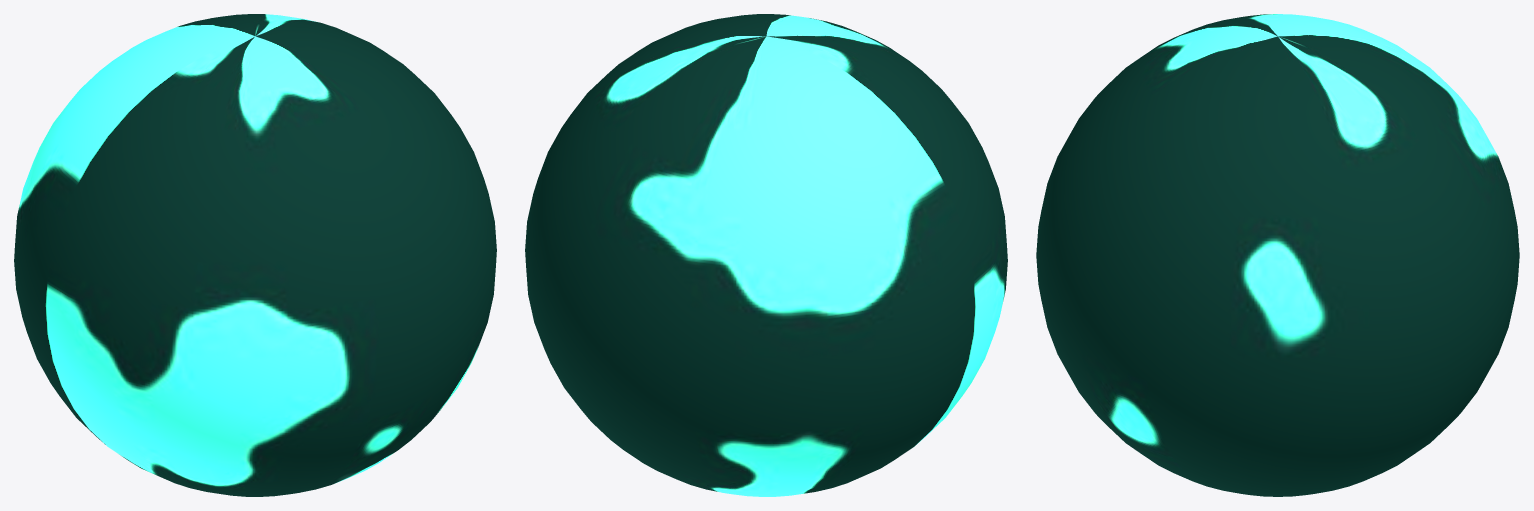
File: alma-ByfEoEzx.glb
3 renders of one model, left to right at view 1: azimuth 30°, elevation 25°; view 2: azimuth 150°, elevation 25°; view 3: azimuth 270°, elevation 25°, orthographic.
Visible parts, largest first — view 1: alma; view 2: alma; view 3: alma.
Part boxes in pixels (<box>): alma: <box>14,14,496,496</box>; alma: <box>525,14,1007,496</box>; alma: <box>1036,14,1519,496</box>.
Size of the model in its own units: 0.3465 by 0.3465 by 0.3465.
Materials: 1 (1 with a texture image).
